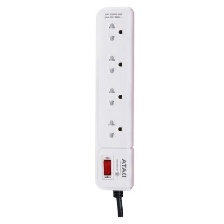three_eye_plug: (89, 6, 136, 196)
